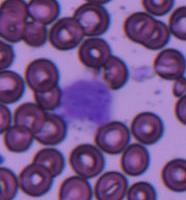M: (61, 74, 116, 128)
